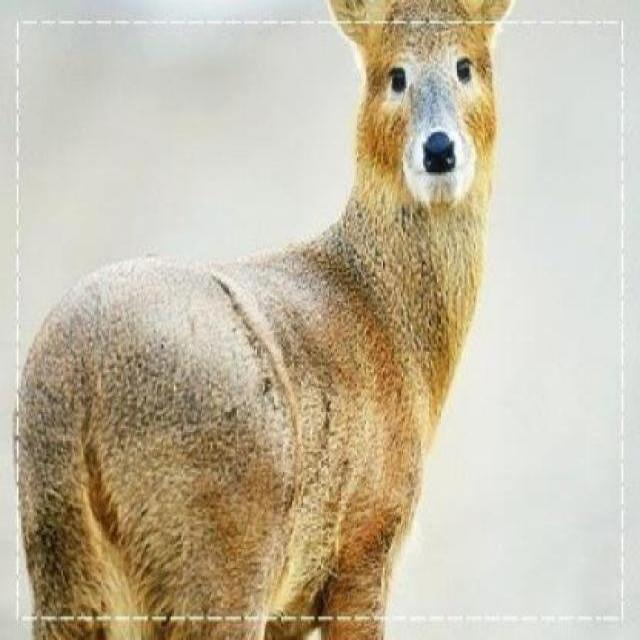deer: (9, 0, 524, 637)
